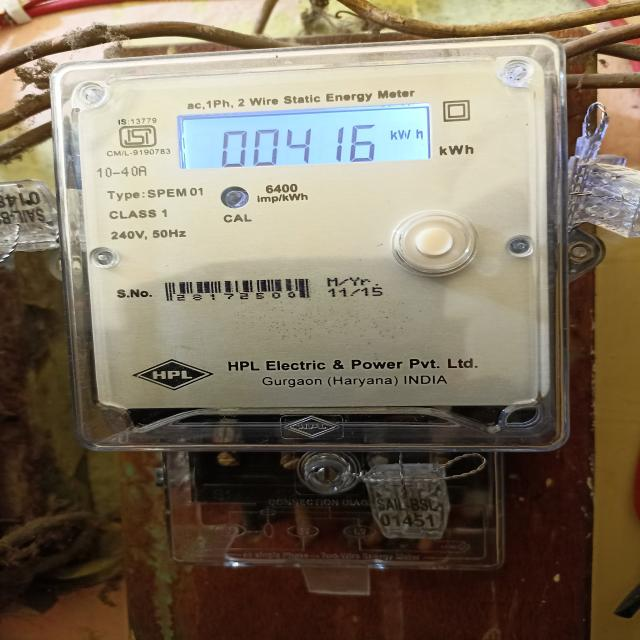display: (168, 105, 434, 172)
